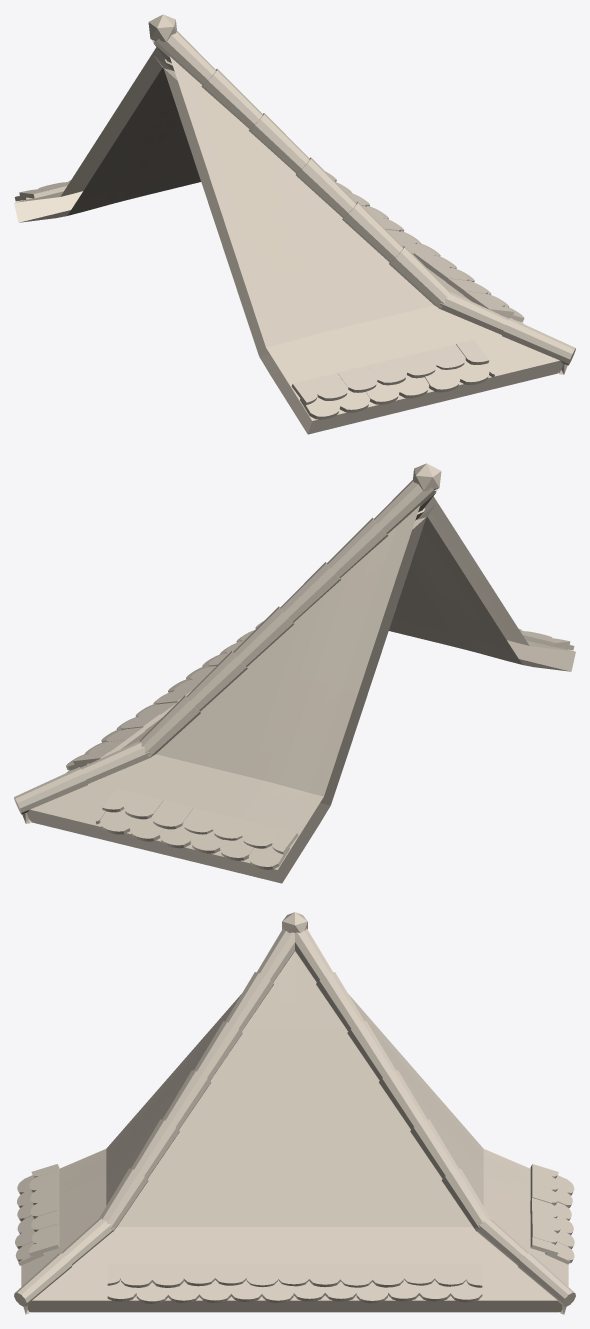
File: SM_VK_Roof_Hip_Plain.fbx
The picture shows the model from 3 angles, top to bottom: view 1: azimuth 30°, elevation 25°; view 2: azimuth 150°, elevation 25°; view 3: azimuth 270°, elevation 25°; orthographic projection. The views are drawn at different scales.
Parts seen in each view (by area): view 1: SM_VK_Roof_Hip_Plain.001; view 2: SM_VK_Roof_Hip_Plain.001; view 3: SM_VK_Roof_Hip_Plain.001.
Boxes of the visible parts, x1=… form: SM_VK_Roof_Hip_Plain.001: x1=14, y1=14, x2=575, y2=434; SM_VK_Roof_Hip_Plain.001: x1=14, y1=463, x2=575, y2=883; SM_VK_Roof_Hip_Plain.001: x1=14, y1=912, x2=575, y2=1314.
Size of the model in its own units: 4.68 by 5.07 by 8.94.
